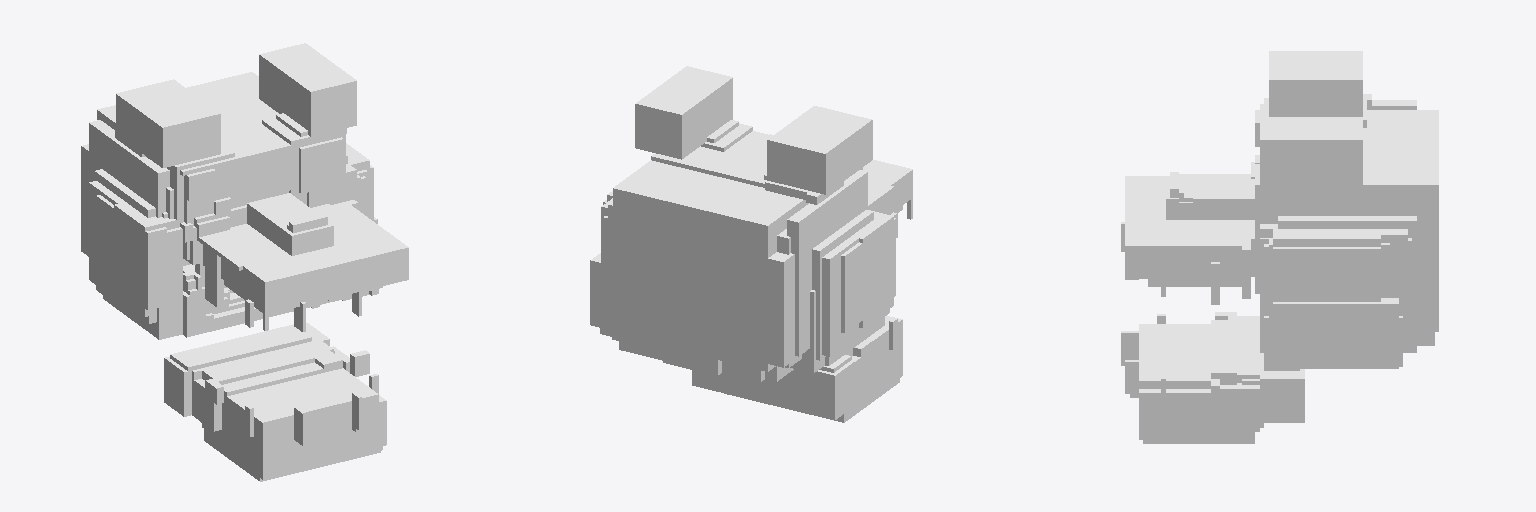
The model's file is bear2-1.obj.
The picture shows the model from 3 angles: view 1: azimuth 30°, elevation 25°; view 2: azimuth 150°, elevation 25°; view 3: azimuth 270°, elevation 25°; orthographic projection.
Visible parts, largest first — view 1: object 1; view 2: object 1; view 3: object 1.
Boxes of the visible parts, <box> form: object 1: <box>81,43,408,481</box>; object 1: <box>590,66,912,422</box>; object 1: <box>1121,51,1438,443</box>.
Bounding box in the file's own units: 6.1 × 7.9 × 7.1.